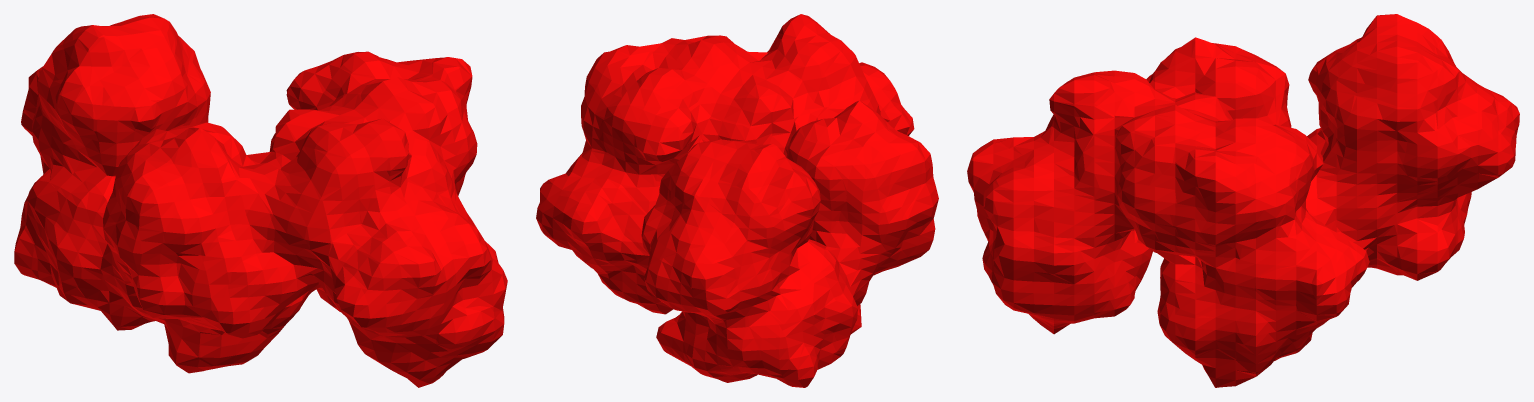
File: yddE_coarse.dae
The picture shows the model from 3 angles, left to right: view 1: azimuth 30°, elevation 25°; view 2: azimuth 150°, elevation 25°; view 3: azimuth 270°, elevation 25°; orthographic projection. The views are drawn at different scales.
Parts seen in each view (by area): view 1: yddE; view 2: yddE; view 3: yddE.
Part boxes in pixels (left/top/right/bottom): yddE: left=14, top=14, right=507, bottom=387; yddE: left=536, top=14, right=938, bottom=387; yddE: left=967, top=14, right=1519, bottom=387.
Size of the model in its own units: 90.01 by 65.6 by 123.
